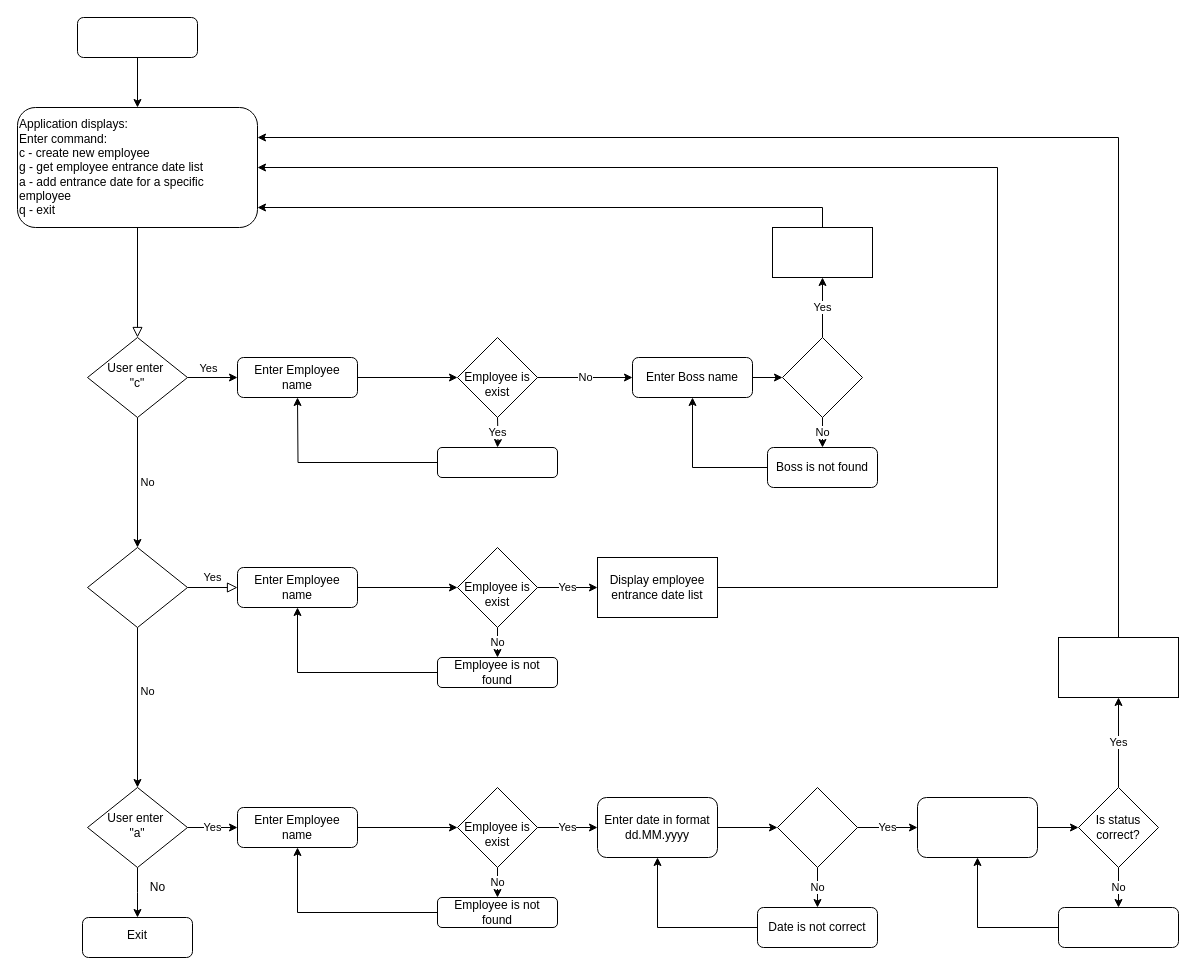
Image size: 1196x975. Some labels were removed from this diagram. The centre of each missing label's shape, as x and y in pixels:
Boss is exist: [822,377]
Employee already exists: [497,462]
Enter status: "Good" or "Not good": [977,827]
Is date correct?: [817,827]
Save employee to DB: [822,252]
Save to DB: [1118,667]
Status is not correct!: [1118,927]
User enter "g": [137,587]
User started application: [137,37]
